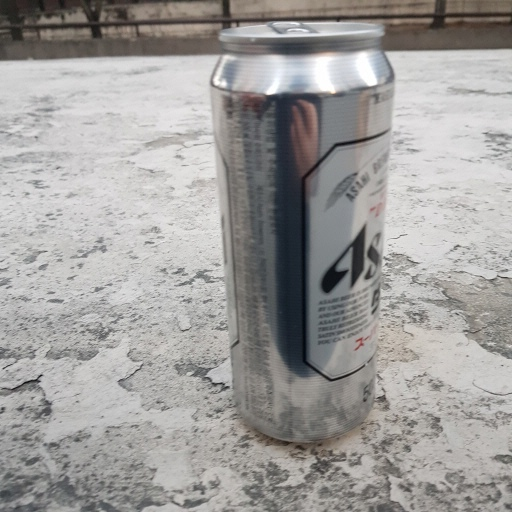Metal_0: (205, 19, 398, 441)
